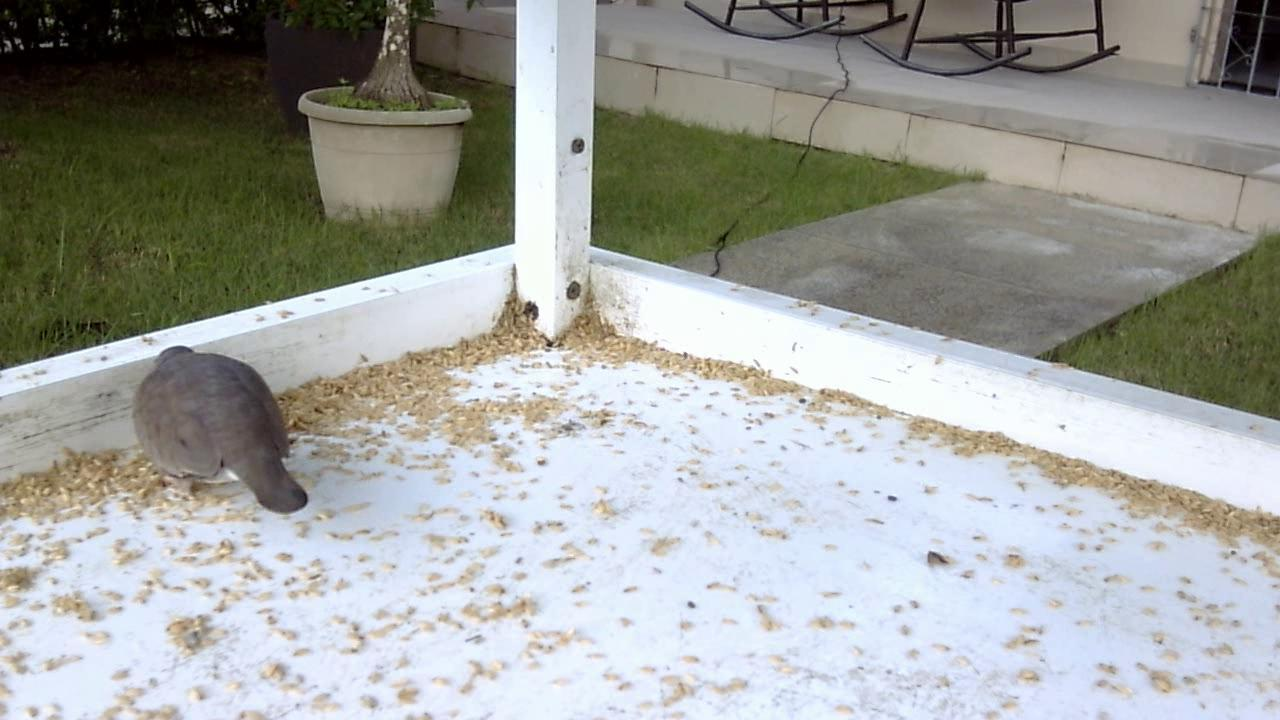rolinha: (127, 343, 310, 519)
